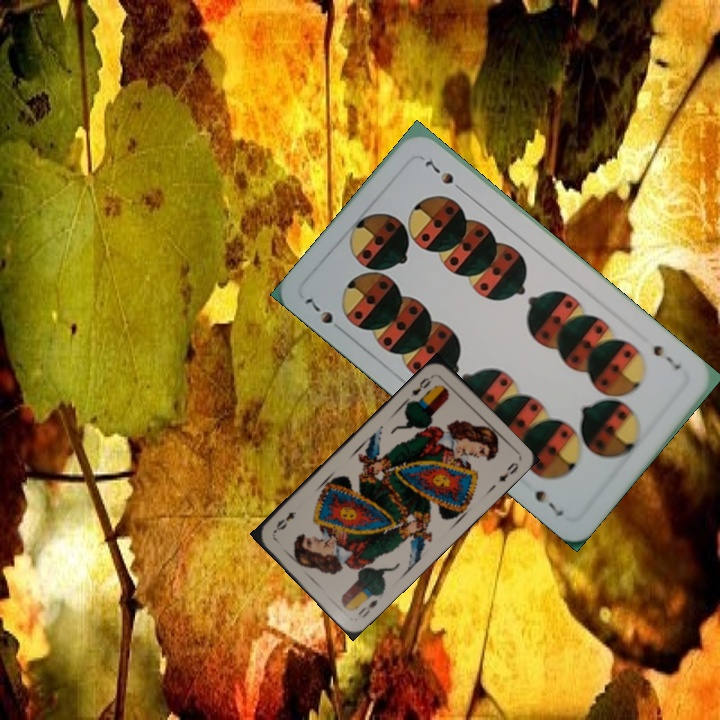EO: (406, 371, 436, 400), (354, 595, 380, 621)
S7: (299, 294, 336, 327), (648, 340, 684, 373)
